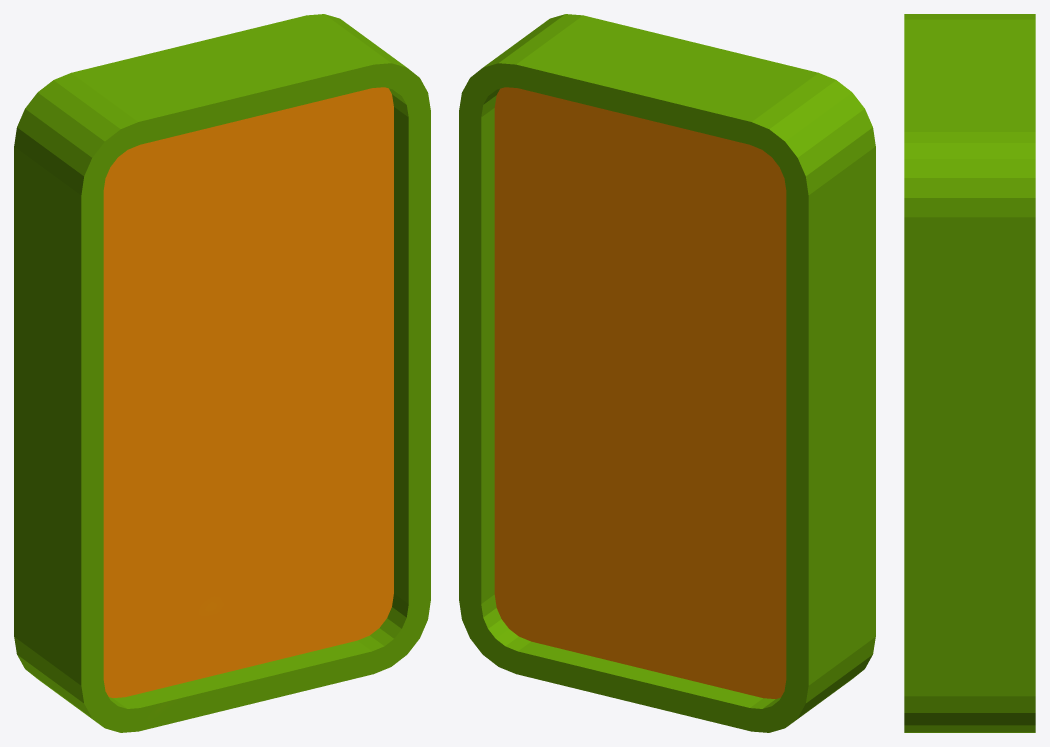
File: domino.glb
3 renders of one model, left to right at view 1: azimuth 30°, elevation 25°; view 2: azimuth 150°, elevation 25°; view 3: azimuth 270°, elevation 25°, orthographic. The views are drawn at different scales.
Parts seen in each view (by area): view 1: Cube; view 2: Cube; view 3: Cube.
Boxes of the visible parts, <box> form: Cube: <box>14,14,430,732</box>; Cube: <box>459,14,875,732</box>; Cube: <box>904,14,1035,732</box>.
Size of the model in its own units: 0.6 by 1 by 0.2.
Materials: 1 (1 with a texture image).
